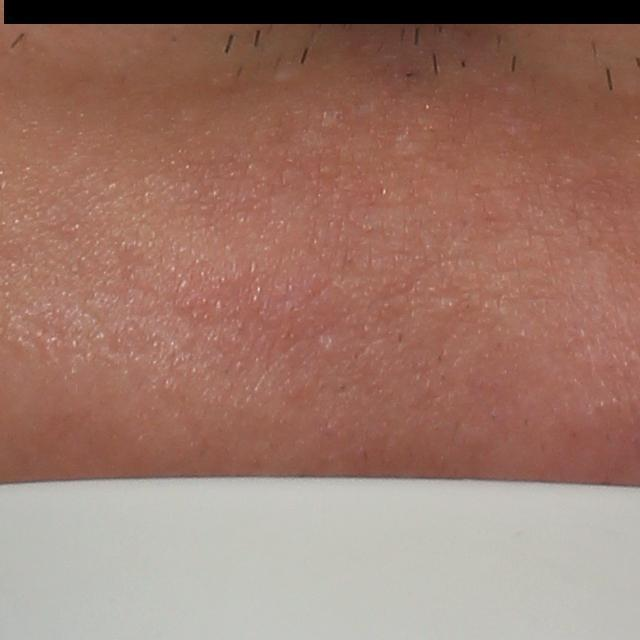comedo: (317, 328, 339, 358)
hypertrophic_scar: (267, 67, 309, 90)
